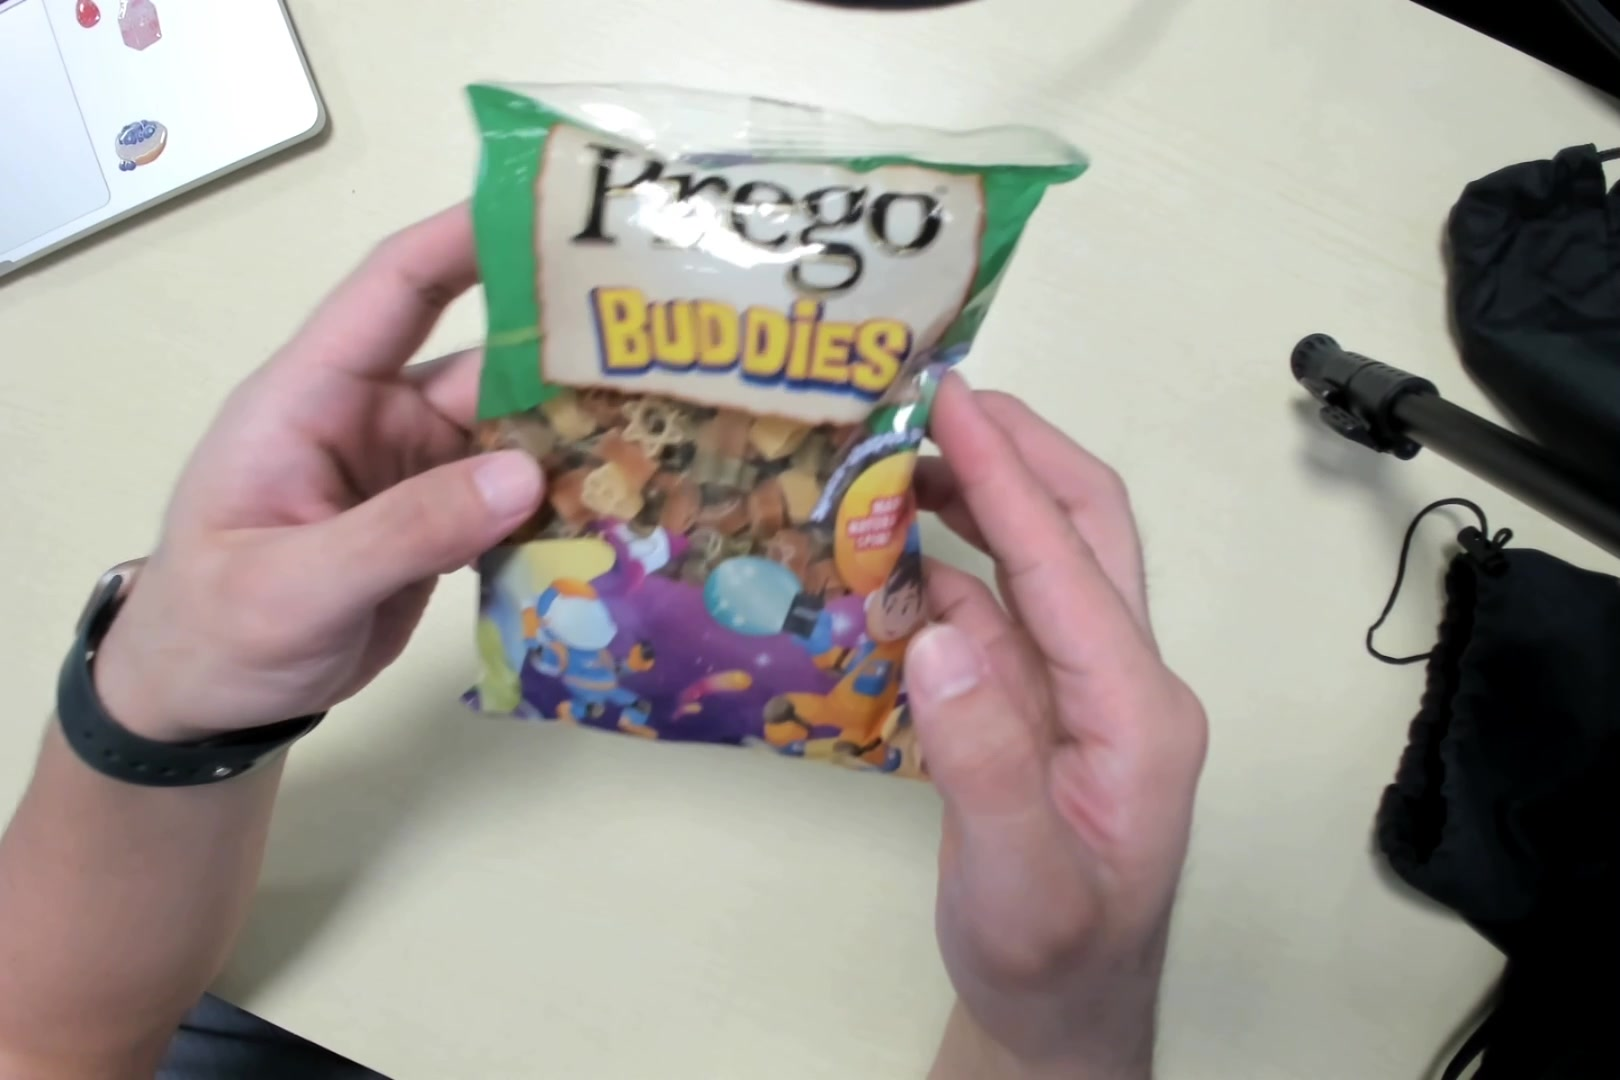Pasta_200-299g_Halal_NonHealthy: (468, 90, 940, 781)
